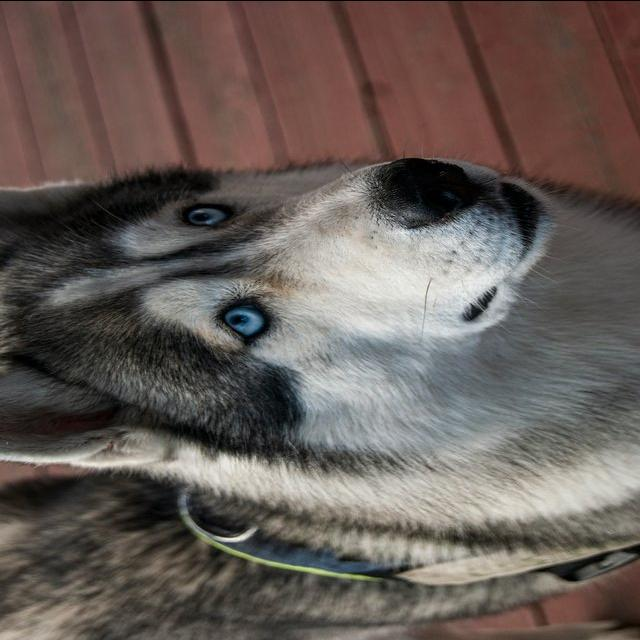husky: (0, 153, 639, 638)
